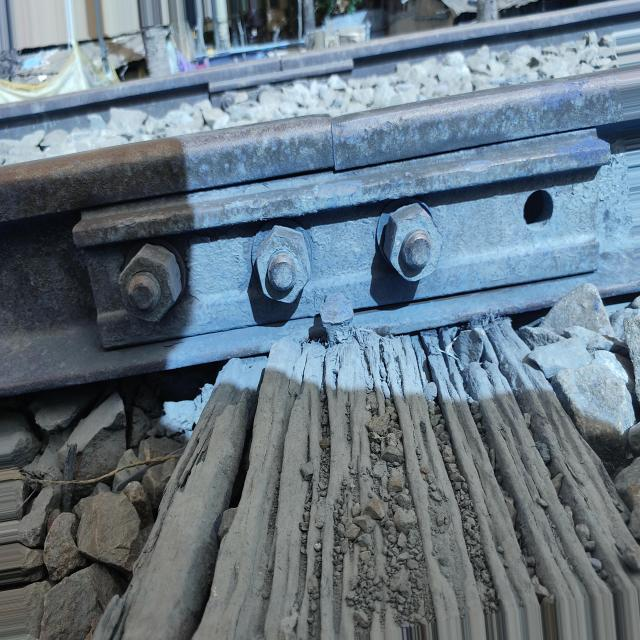Defective Joint: (71, 128, 631, 350)
Good Fasteners: (320, 294, 353, 342)
